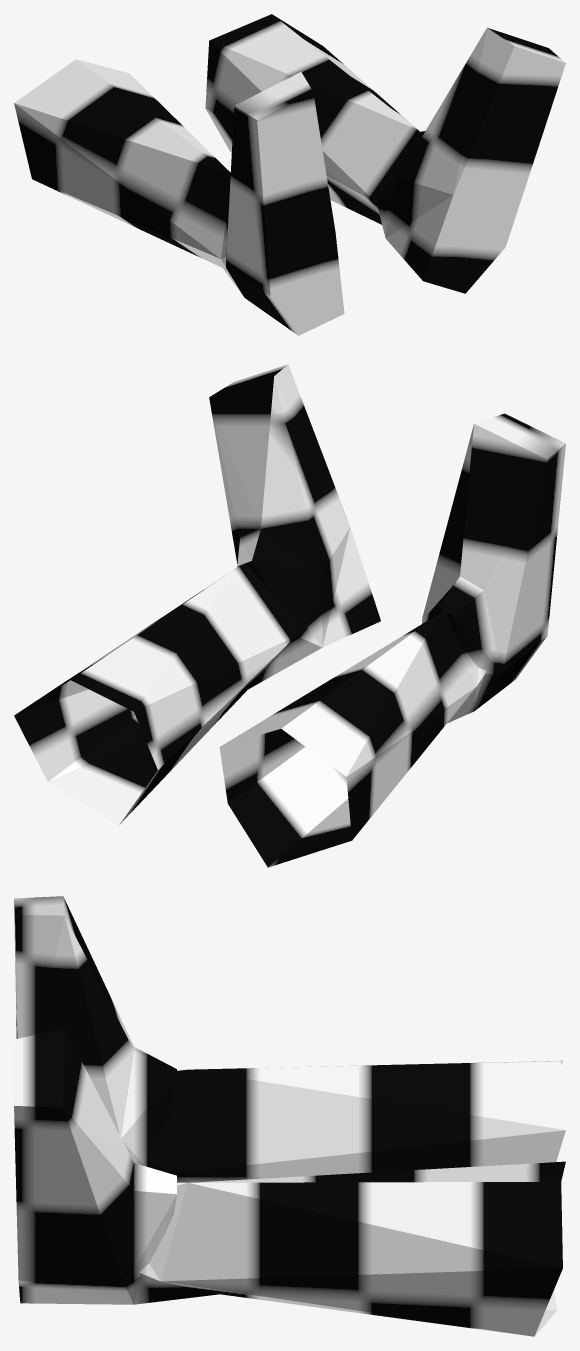
Rendered from initarbt17.dae.
3 renders of one model, top to bottom at view 1: azimuth 30°, elevation 25°; view 2: azimuth 150°, elevation 25°; view 3: azimuth 270°, elevation 25°, orthographic. The views are drawn at different scales.
Parts seen in each view (by area): view 1: armor; view 2: armor; view 3: armor.
Part boxes in pixels (left/top/right/bottom): armor: left=14, top=14, right=565, bottom=335; armor: left=14, top=364, right=565, bottom=867; armor: left=14, top=896, right=565, bottom=1336.
Size of the model in its own units: 1.22 by 1.43 by 0.9271.
1 material, 1 textured.
